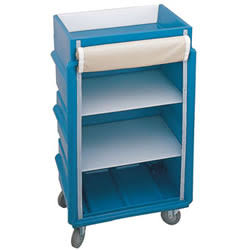Carts: (50, 3, 198, 248)
